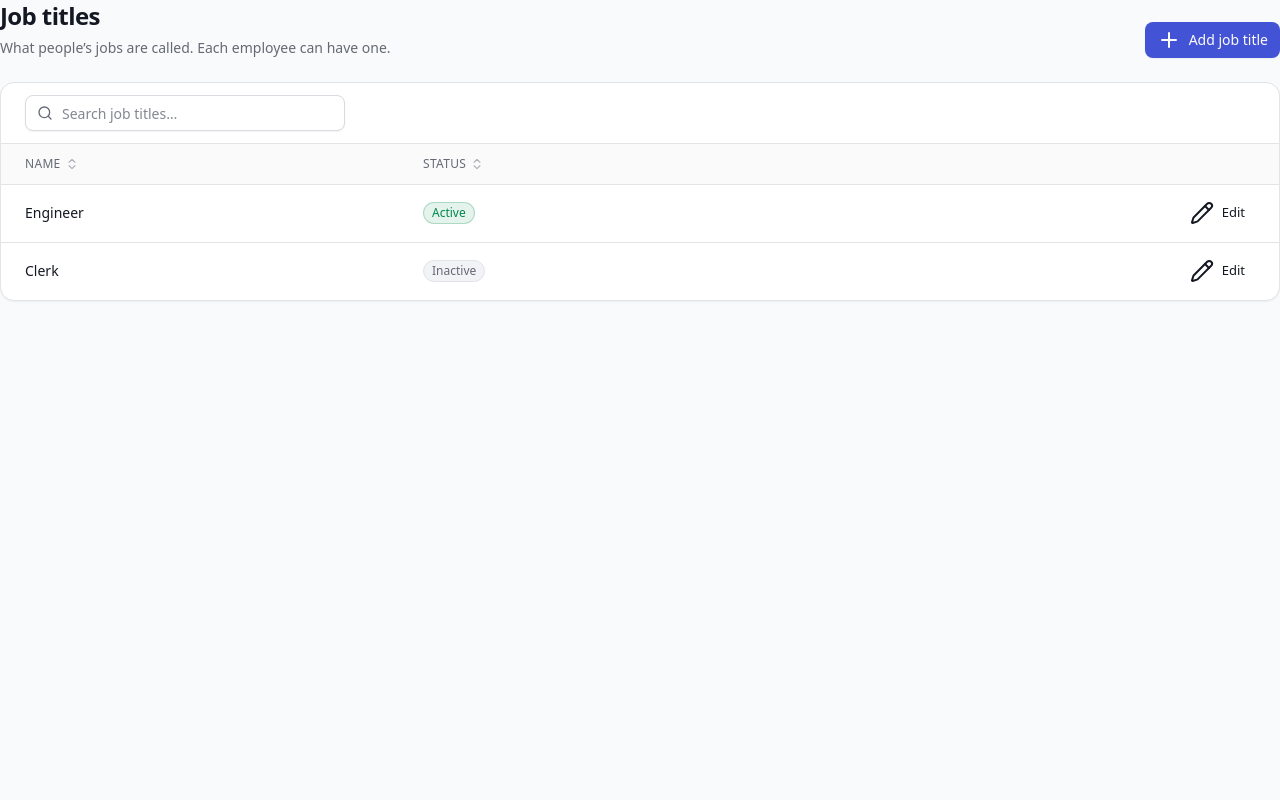
Test case: job titles page › renames and reactivates in one edit
Click the button with aria-label "Edit Clerk" at (1217, 270), box [1180,254,1255,286]
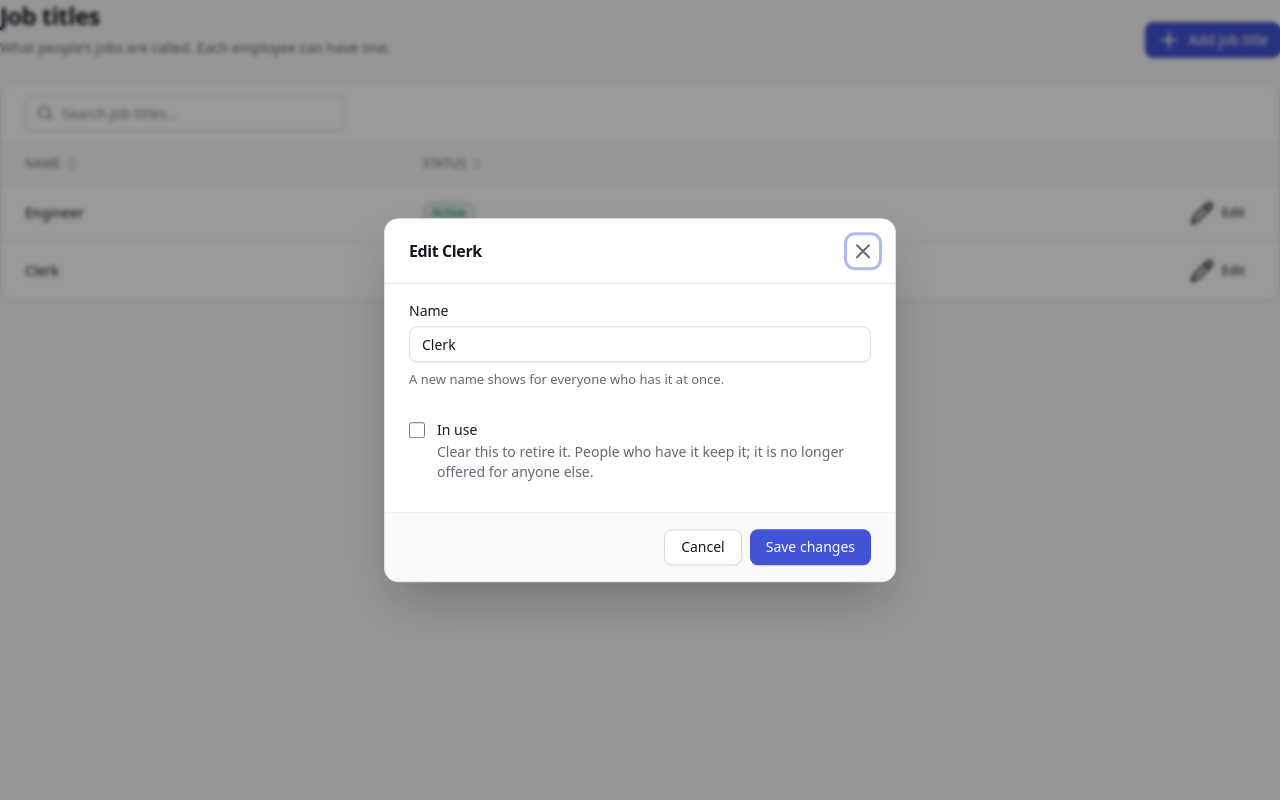
Replace the text in the field labelled "Name" with "Office clerk" at (640, 344), box [409,326,871,362]
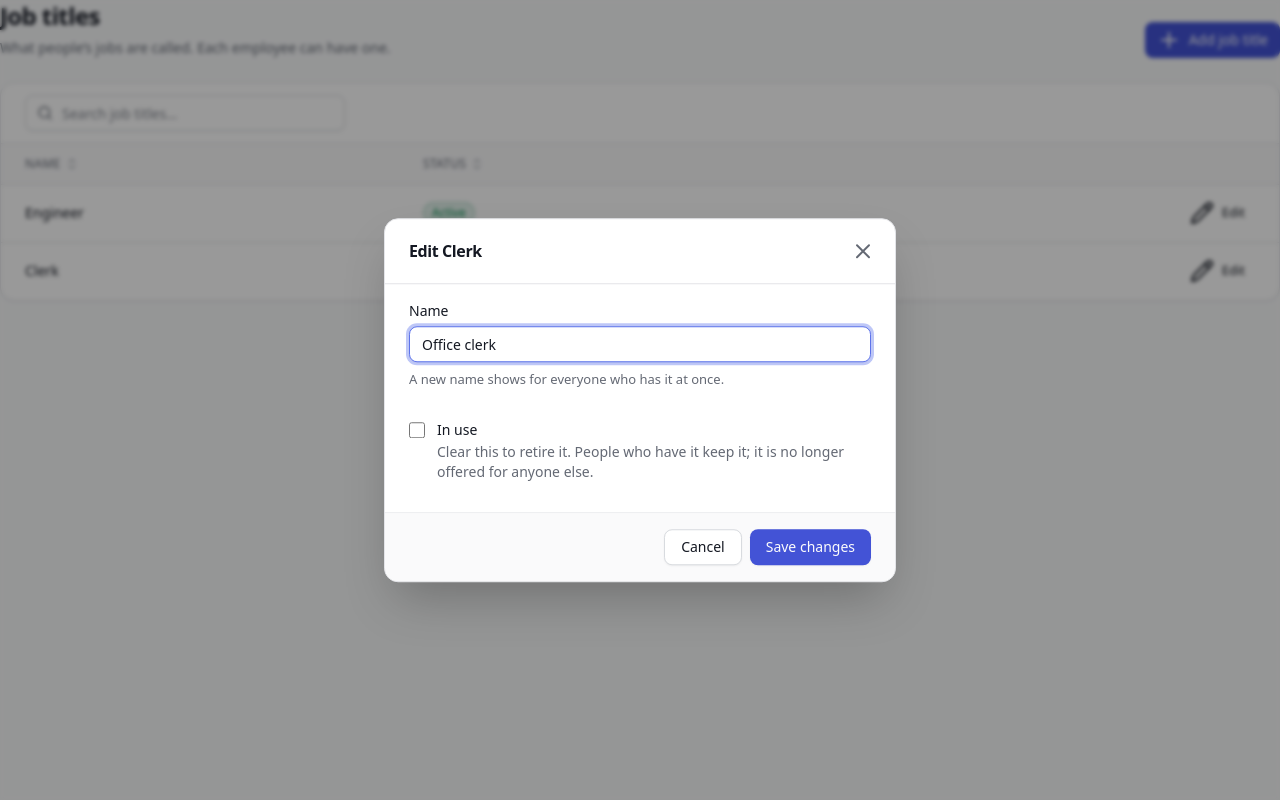
Click the checkbox labelled "In use" at (417, 430), box [409,422,425,438]
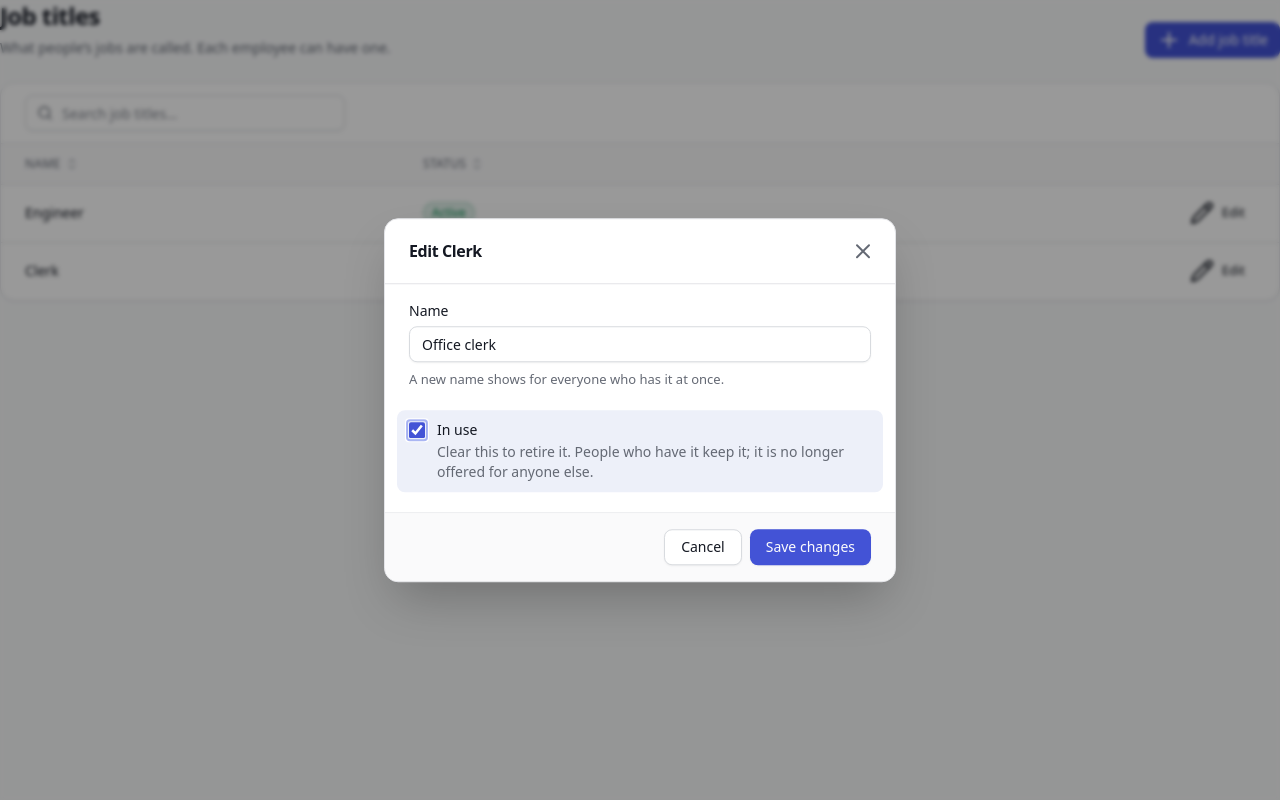
Click the button "Save changes" at (810, 547), box [750,529,871,565]
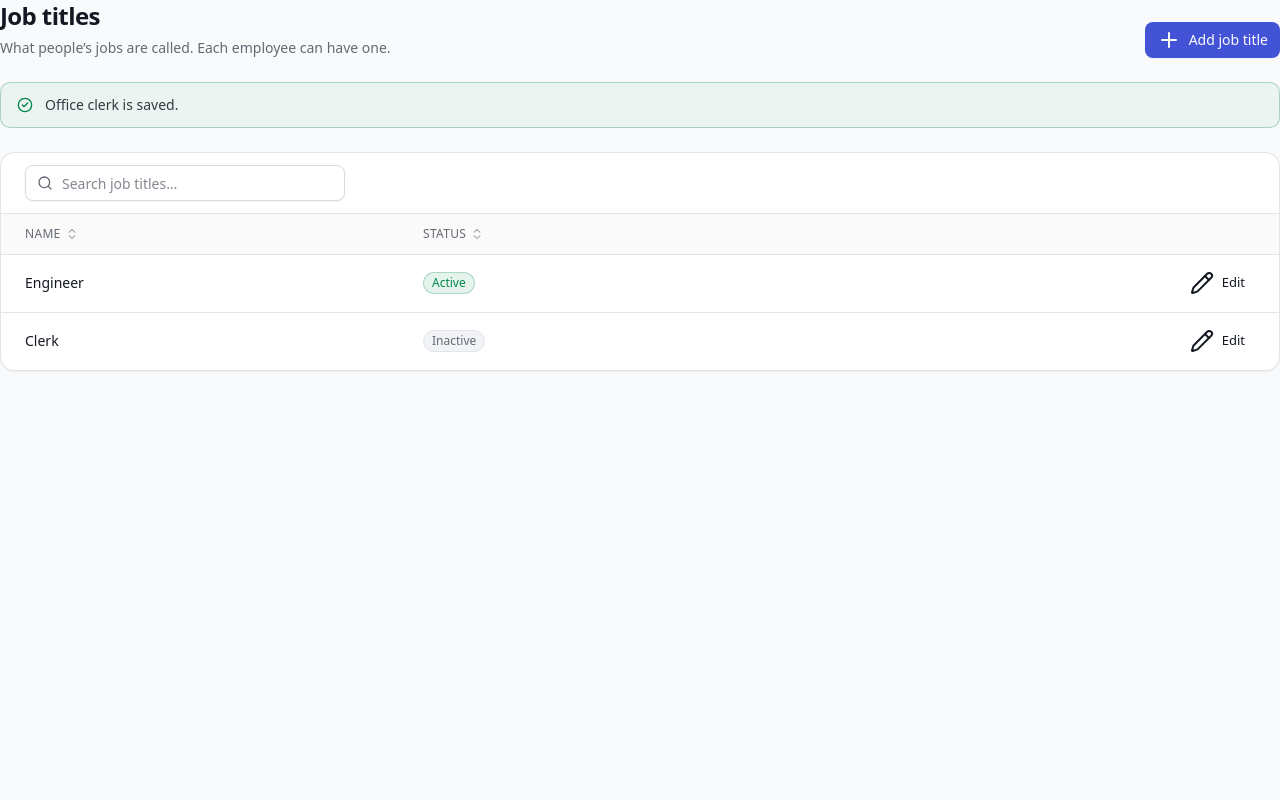
Result: the text "Office clerk is saved." is shown at [45,95,178,115]
